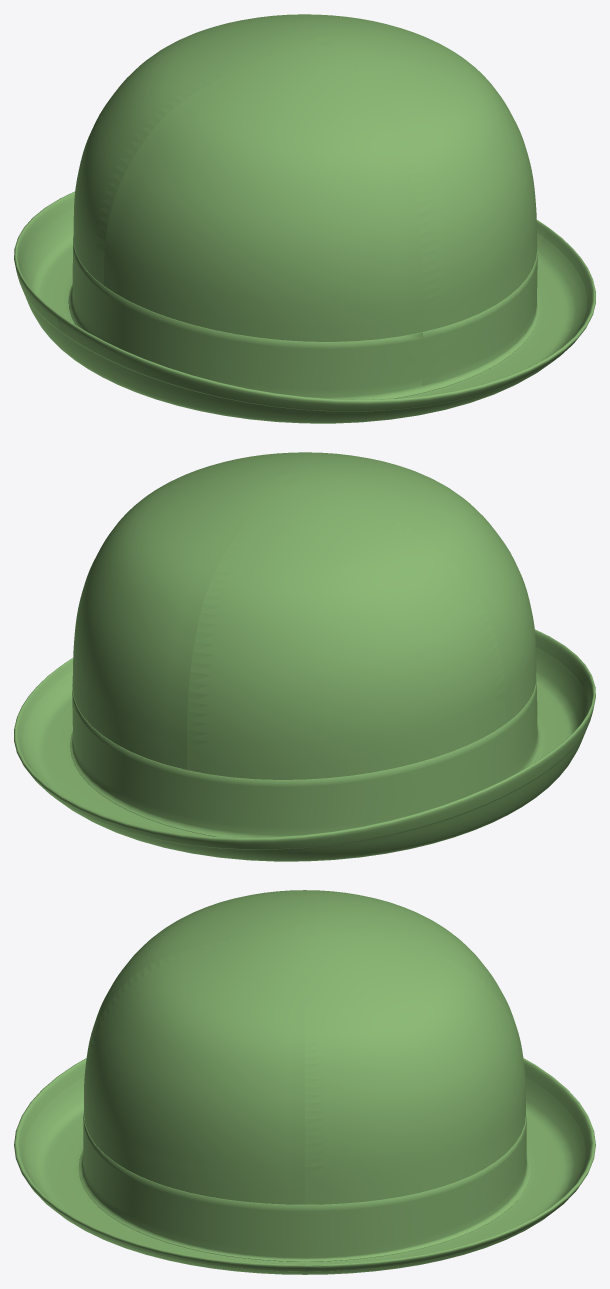
File: hat-green.glb
The picture shows the model from 3 angles, top to bottom: view 1: azimuth 30°, elevation 25°; view 2: azimuth 150°, elevation 25°; view 3: azimuth 270°, elevation 25°; orthographic projection. The views are drawn at different scales.
Visible parts, largest first — view 1: hat; view 2: hat; view 3: hat.
Part boxes in pixels (box(x1,y1,x2,y2)): hat: box(14, 14, 595, 423); hat: box(14, 452, 595, 861); hat: box(14, 890, 595, 1274).
Size of the model in its own units: 45.56 by 23.31 by 49.07.
1 material, 1 textured.
